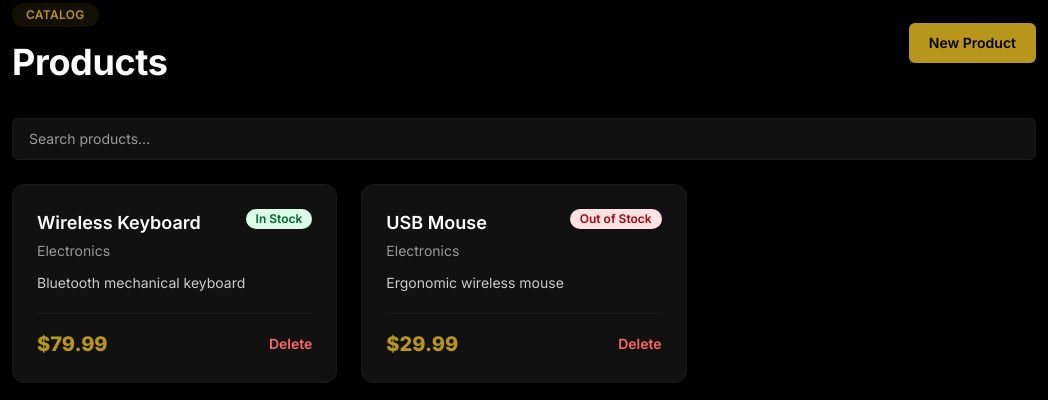
ProductList › filters products by name via the search bar
The width and height of the screenshot is (1048, 400).
Expected: the link "Wireless Keyboard" is shown, [37, 212, 201, 233]
In the search field labelled "Search products…": [524, 139] box [12, 118, 1036, 160], type "keyboard"
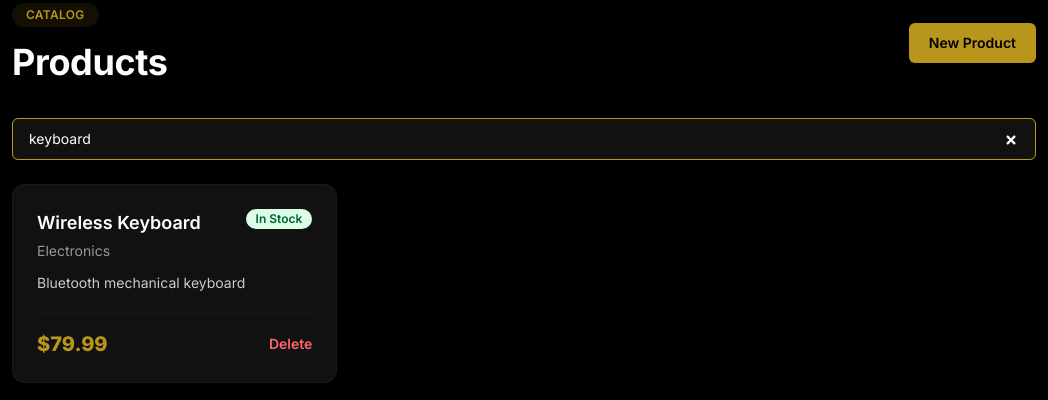
Expected: the link "Wireless Keyboard" is shown, [37, 212, 201, 233]
Result: the link "USB Mouse" is gone
